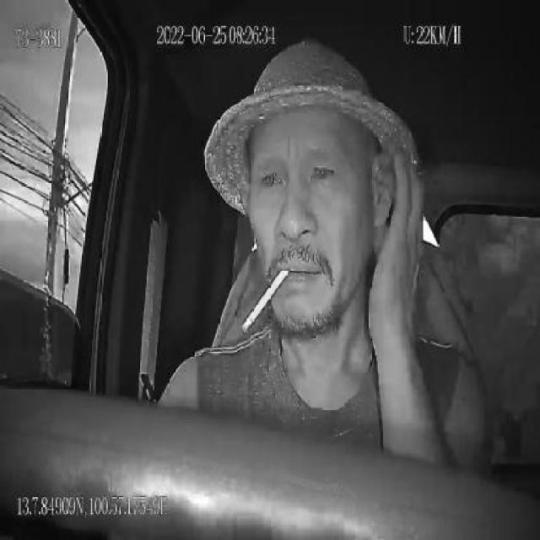smoking: (240, 261, 290, 344)
